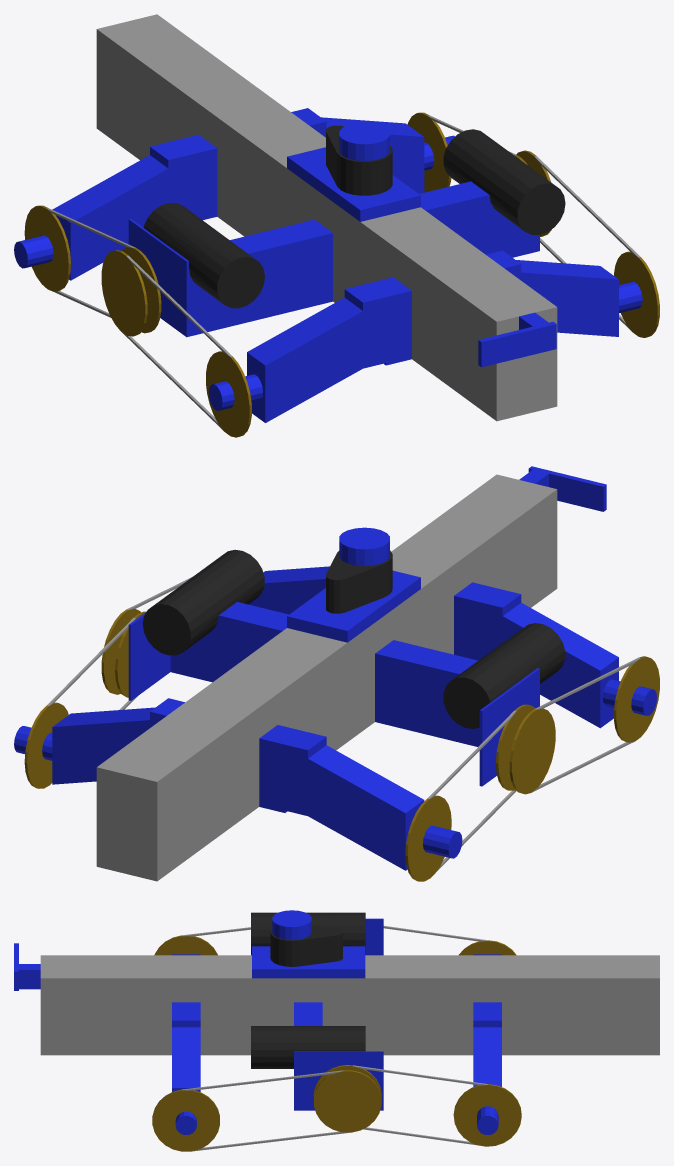
The model's file is chassis.dae.
3 views of the same model, one above another, from view 1: azimuth 30°, elevation 25°; view 2: azimuth 150°, elevation 25°; view 3: azimuth 270°, elevation 25° (orthographic). The views are drawn at different scales.
Parts seen in each view (by area): view 1: Chassis; view 2: Chassis; view 3: Chassis.
Part boxes in pixels (left/top/right/bottom): Chassis: left=14, top=14, right=659, bottom=437; Chassis: left=14, top=466, right=659, bottom=881; Chassis: left=14, top=910, right=659, bottom=1151.
Bounding box in the file's own units: 0.5412 × 0.9 × 0.2392.
